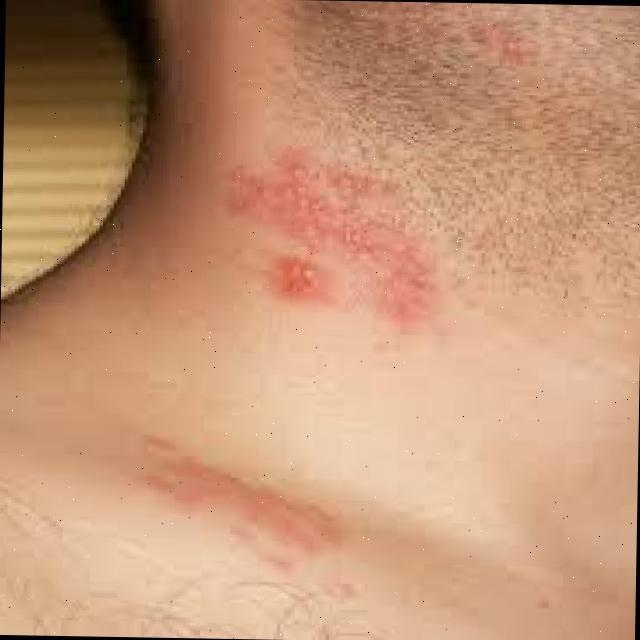Shingles: (220, 146, 440, 338), (130, 427, 345, 578)
